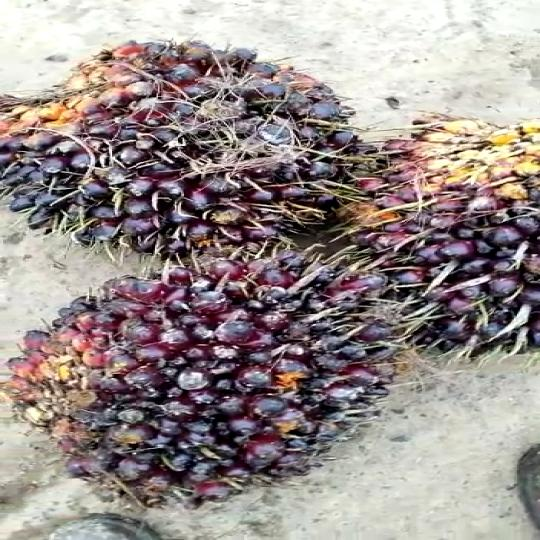kurang masak: (23, 248, 411, 503), (0, 46, 365, 250), (338, 112, 540, 356)
